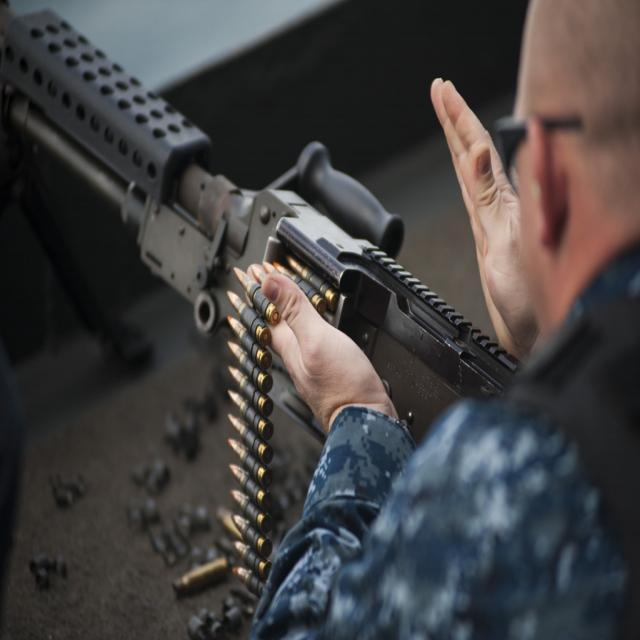weapon: (0, 0, 526, 590)
